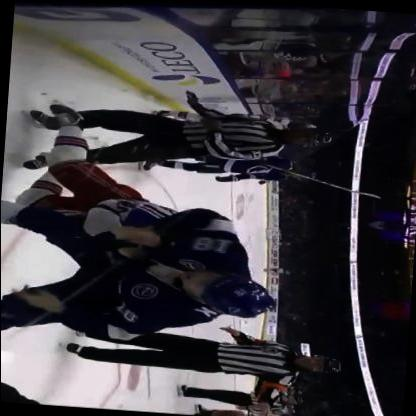non-Voilence: (42, 104, 331, 178)
voilence: (1, 155, 280, 353)
